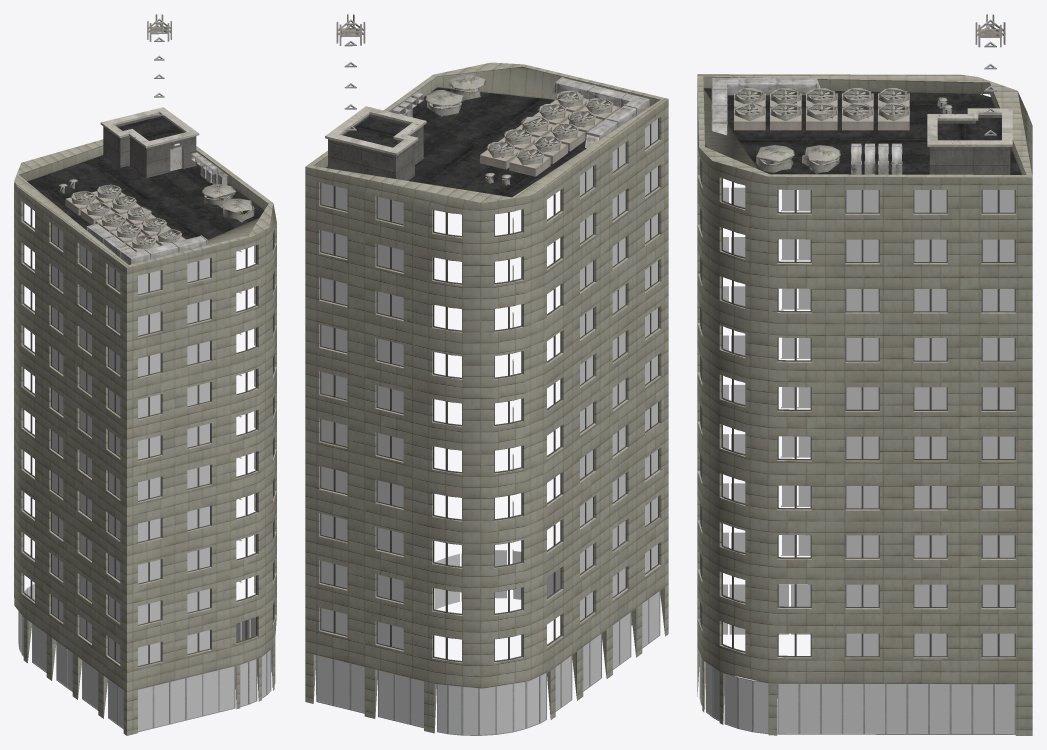
File: KB3D_NEC_BldgLG_A_BuildingA.glb
3 renders of one model, left to right at view 1: azimuth 30°, elevation 25°; view 2: azimuth 150°, elevation 25°; view 3: azimuth 270°, elevation 25°, orthographic. The views are drawn at different scales.
Visible parts, largest first — view 1: KB3D_NEC_BldgLG_A_BuildingA; view 2: KB3D_NEC_BldgLG_A_BuildingA; view 3: KB3D_NEC_BldgLG_A_BuildingA.
Boxes of the visible parts, x1,y1,x2,y2 form: KB3D_NEC_BldgLG_A_BuildingA: (14, 14, 276, 735); KB3D_NEC_BldgLG_A_BuildingA: (305, 14, 668, 735); KB3D_NEC_BldgLG_A_BuildingA: (697, 14, 1032, 735).
Bounding box in the file's own units: 13.06 × 41.36 × 17.89.
10 materials, 9 textured.
